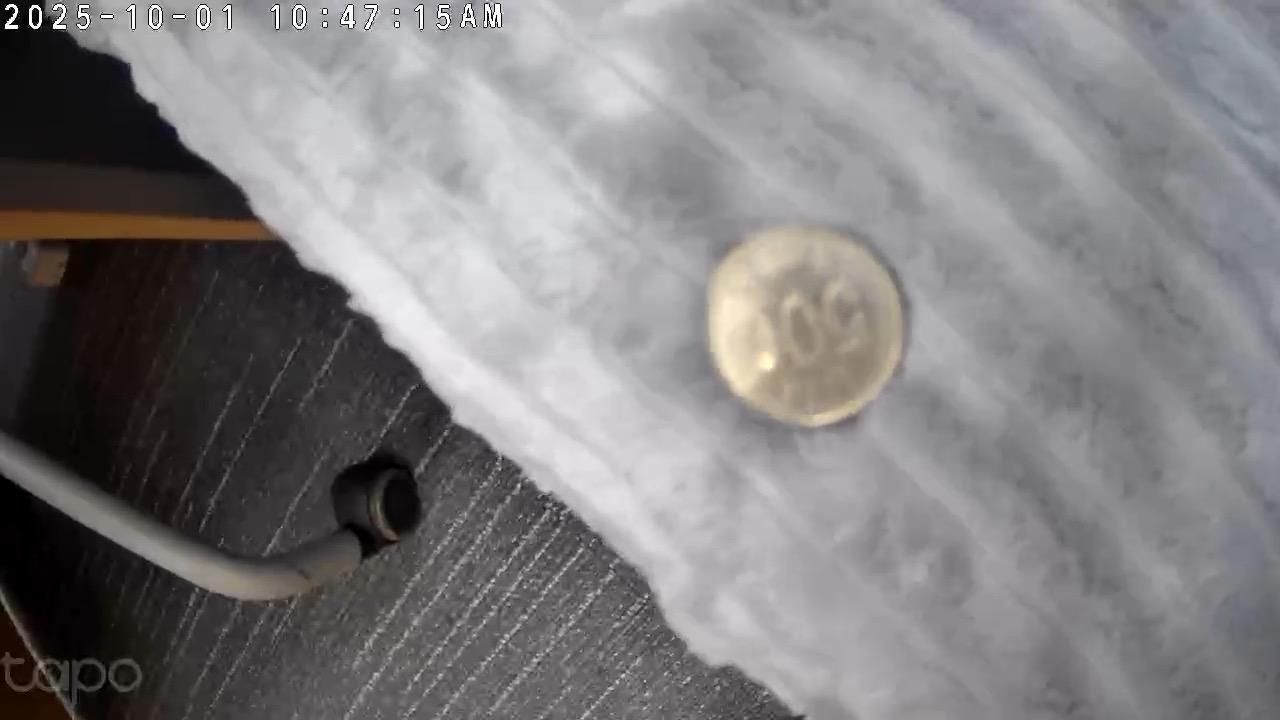coin: (701, 221, 910, 433)
